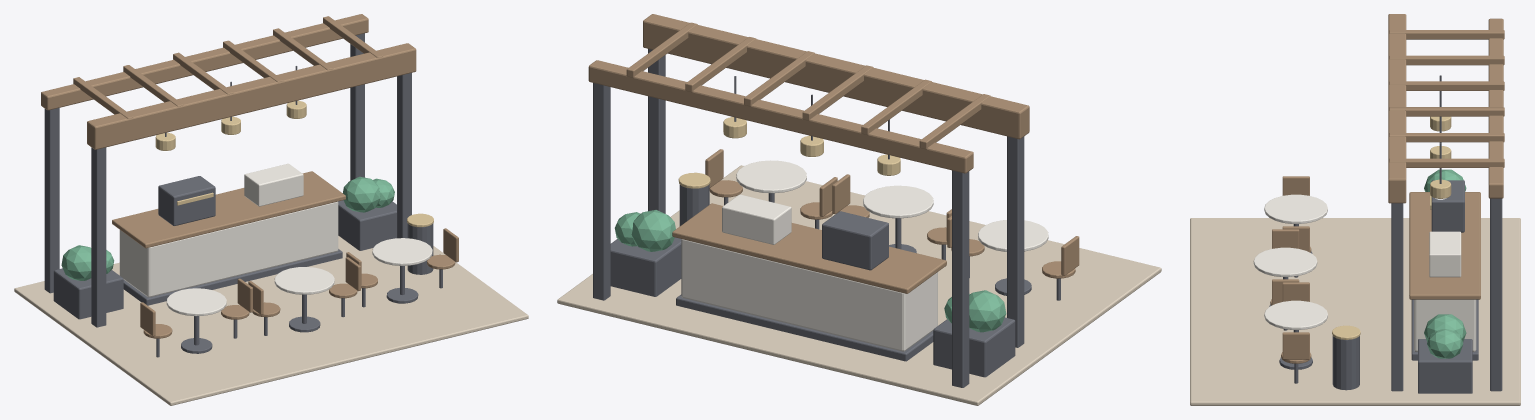
The model's file is mini_cafe_corner_v27_4.glb.
The picture shows the model from 3 angles, left to right: view 1: azimuth 30°, elevation 25°; view 2: azimuth 150°, elevation 25°; view 3: azimuth 270°, elevation 25°; orthographic projection. The views are drawn at different scales.
Visible parts, largest first — view 1: PlazaMat_CafeTimberDeck, PlazaMat_WarmWalnut, PlazaMat_EspressoSteel, PlazaMat_CafeCream, PlazaMat_CafeGreenery, PlazaMat_CafeBrass; view 2: PlazaMat_WarmWalnut, PlazaMat_CafeTimberDeck, PlazaMat_EspressoSteel, PlazaMat_CafeCream, PlazaMat_CafeGreenery, PlazaMat_CafeBrass; view 3: PlazaMat_CafeTimberDeck, PlazaMat_WarmWalnut, PlazaMat_EspressoSteel, PlazaMat_CafeCream, PlazaMat_CafeGreenery, PlazaMat_CafeBrass.
Part boxes in pixels (bbox=[...]): PlazaMat_CafeTimberDeck: bbox=[14, 236, 528, 405]; PlazaMat_WarmWalnut: bbox=[41, 14, 458, 338]; PlazaMat_EspressoSteel: bbox=[44, 33, 442, 357]; PlazaMat_CafeCream: bbox=[119, 163, 432, 316]; PlazaMat_CafeGreenery: bbox=[61, 176, 394, 280]; PlazaMat_CafeBrass: bbox=[155, 100, 433, 227]; PlazaMat_WarmWalnut: bbox=[588, 14, 1079, 293]; PlazaMat_CafeTimberDeck: bbox=[557, 165, 1161, 405]; PlazaMat_EspressoSteel: bbox=[593, 49, 1060, 387]; PlazaMat_CafeCream: bbox=[681, 160, 1048, 351]; PlazaMat_CafeGreenery: bbox=[614, 210, 1006, 332]; PlazaMat_CafeBrass: bbox=[678, 117, 900, 188]; PlazaMat_CafeTimberDeck: bbox=[1190, 218, 1520, 405]; PlazaMat_WarmWalnut: bbox=[1270, 14, 1504, 363]; PlazaMat_EspressoSteel: bbox=[1269, 75, 1502, 393]; PlazaMat_CafeCream: bbox=[1253, 194, 1476, 351]; PlazaMat_CafeGreenery: bbox=[1424, 169, 1466, 358]; PlazaMat_CafeBrass: bbox=[1332, 116, 1451, 339].
Size of the model in its own units: 5.75 by 3.17 by 4.35.
